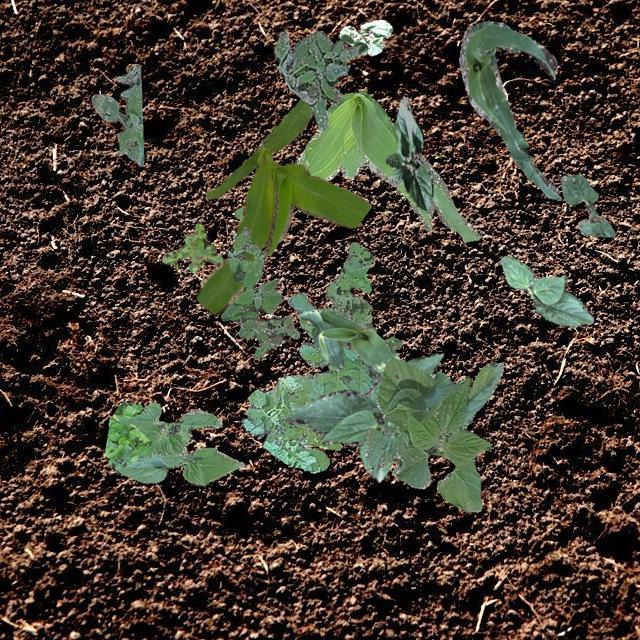crop: (196, 96, 370, 314), (363, 356, 502, 512), (282, 352, 442, 480), (458, 19, 558, 198), (115, 402, 243, 484), (298, 308, 400, 374), (500, 254, 592, 326), (384, 96, 432, 212), (560, 174, 614, 236), (338, 18, 392, 54)
weed: (234, 90, 482, 240), (240, 240, 400, 472), (220, 225, 298, 358), (272, 30, 358, 130), (90, 64, 142, 166), (104, 398, 150, 468), (162, 222, 222, 272)
